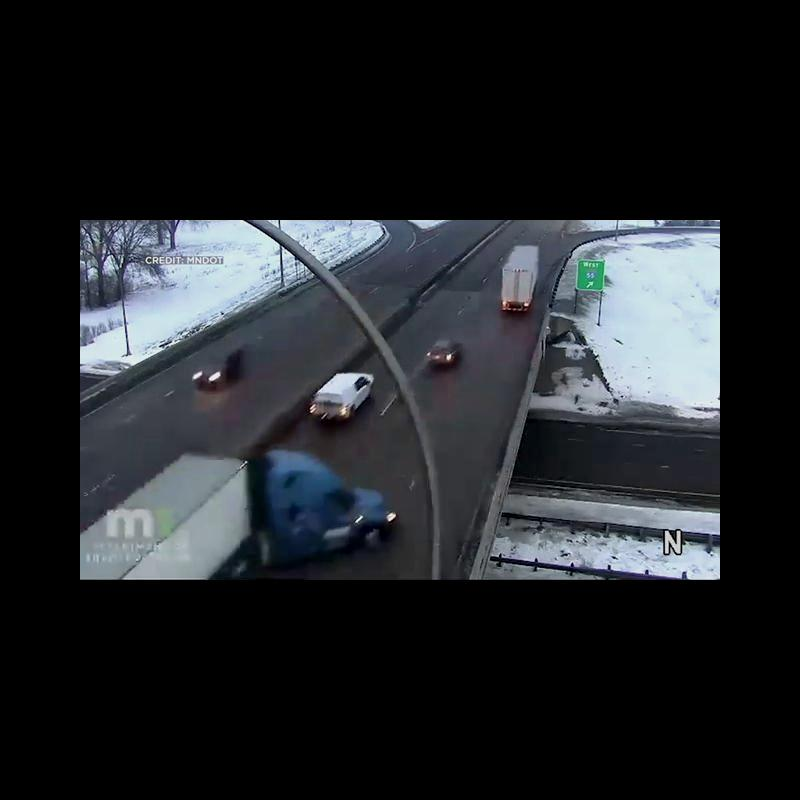car: (312, 365, 376, 427), (190, 348, 246, 385), (427, 334, 462, 372)
truck: (81, 446, 395, 580), (500, 245, 540, 309)
